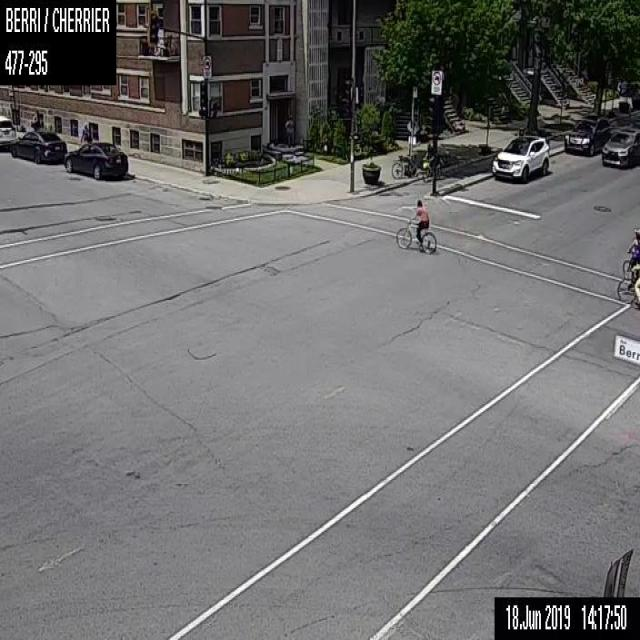cyclist: (396, 199, 436, 252), (617, 227, 639, 305), (421, 143, 444, 181)
pedestrian: (79, 123, 91, 145), (32, 106, 42, 130)
vehicle: (492, 134, 549, 180), (63, 141, 128, 179), (563, 114, 611, 156), (10, 130, 66, 163), (601, 128, 639, 167), (0, 114, 16, 152)
